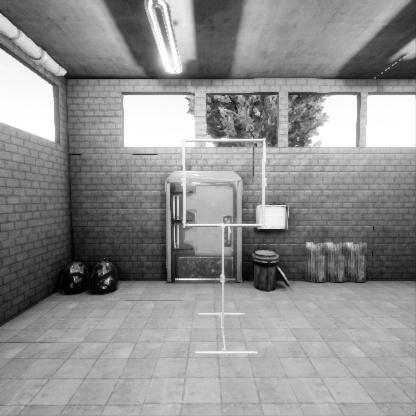gate: (181, 192, 270, 281)
